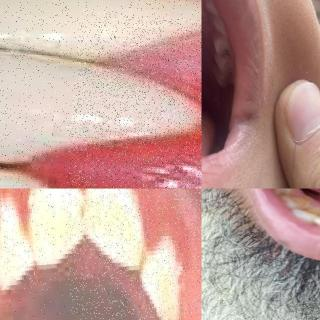Gum Swelling: (32, 70, 202, 188), (143, 188, 201, 256), (0, 188, 36, 216)
calculus: (294, 203, 320, 218), (286, 195, 310, 209)
cavities: (219, 44, 231, 60)
maligned: (79, 188, 149, 270), (24, 188, 83, 266)
plaque: (147, 234, 199, 286), (18, 188, 86, 204), (86, 188, 135, 208)
